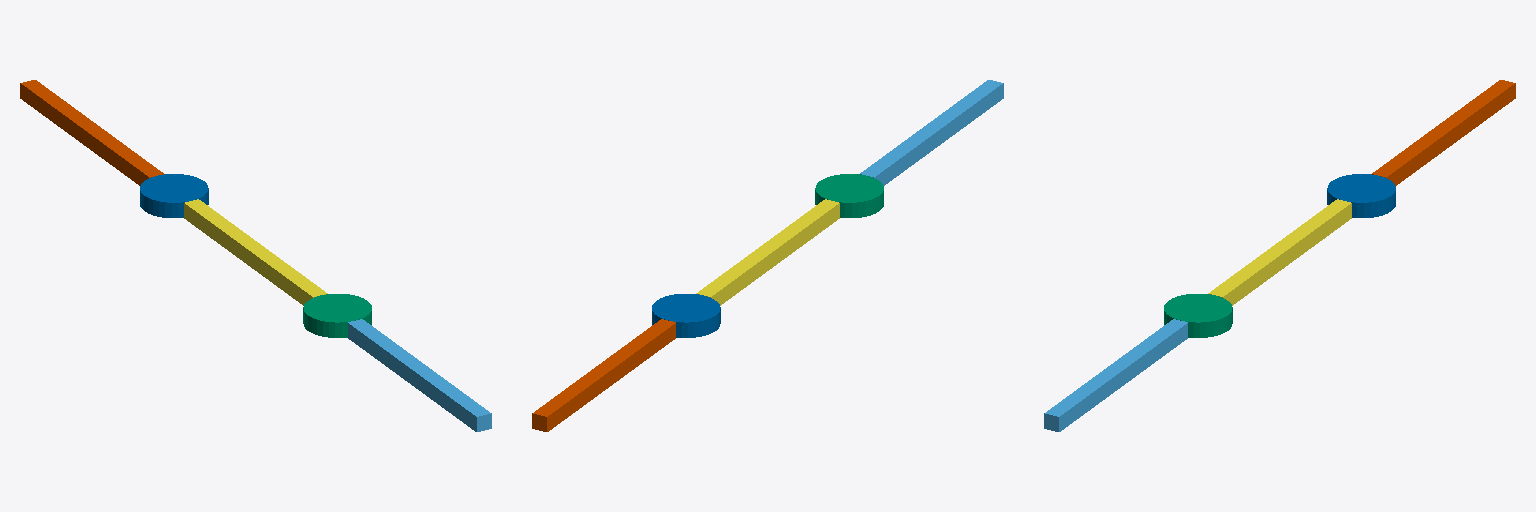
The robot description file, URDF, robot "planar_manipulator/3dof_manip_no_endeffector":
<?xml version="1.0"?>
<robot name="planar_manipulator/3dof_manip_no_endeffector">
 <link name="jlink0">
  <inertial>
    <mass value="1"/>
    <inertia ixx="0.0108333333333" ixy="0" ixz="0" iyy="0.0108333333333" iyz="0" izz="0.01"/>
  </inertial>
 </link>

 <link name="link0">
  <inertial>
    <mass value="1"/>
    <inertia ixx="0.0141666666667" ixy="0" ixz="0" iyy="0.200833333333" iyz="0" izz="0.188333333333"/>
  </inertial>
  <visual>
    <origin rpy="0 0 0" xyz="0 0.95 0"/>
    <geometry>
      <box size="0.1 1.5 0.1"/>
    </geometry>
  </visual>
  <collision>
    <origin rpy="0 0 0" xyz="0 0.95 0"/>
    <geometry>
      <box size="0.1 1.5 0.1"/>
    </geometry>
  </collision>
 </link>

<joint name="joint_revolute_jlink0_link0_Z" type="revolute">
  <origin rpy="0 0 0" xyz="0 0 0"/>
  <parent link="jlink0"/>
  <child link="link0"/>
  <axis xyz="0 0 1"/>
  <dynamics damping="0.01" friction="0.5"/>
  <limit lower="-3.14" upper="3.14" effort="0.01" velocity="100"/>
</joint>

 <link name="jlink1">
  <inertial>
    <mass value="1"/>
    <inertia ixx="0.0108333333333" ixy="0" ixz="0" iyy="0.0108333333333" iyz="0" izz="0.01"/>
  </inertial>
  <visual>
    <origin rpy="0 0 1.57" xyz="0 0 0"/>
    <geometry>
      <cylinder length="0.1" radius="0.2"/>
    </geometry>
  </visual>
  <collision>
    <origin rpy="0 0 1.57" xyz="0 0 0"/>
    <geometry>
      <cylinder length="0.1" radius="0.2"/>
    </geometry>
  </collision>
 </link>

<joint name="joint_fixed_link0_jlink1" type="fixed">
  <origin rpy="0 0 0" xyz="0 1.9 0"/>
  <parent link="link0"/>
  <child link="jlink1"/>
</joint>

 <link name="link1">
  <inertial>
    <mass value="1"/>
    <inertia ixx="0.0141666666667" ixy="0" ixz="0" iyy="0.200833333333" iyz="0" izz="0.188333333333"/>
  </inertial>
  <visual>
    <origin rpy="0 0 0" xyz="0 0.95 0"/>
    <geometry>
      <box size="0.1 1.5 0.1"/>
    </geometry>
  </visual>
  <collision>
    <origin rpy="0 0 0" xyz="0 0.95 0"/>
    <geometry>
      <box size="0.1 1.5 0.1"/>
    </geometry>
  </collision>
 </link>

<joint name="joint_revolute_jlink1_link1_Z" type="revolute">
  <origin rpy="0 0 0" xyz="0 0 0"/>
  <parent link="jlink1"/>
  <child link="link1"/>
  <axis xyz="0 0 1"/>
  <dynamics damping="0.01" friction="0.5"/>
  <limit lower="-3.14" upper="3.14" effort="0.01" velocity="100"/>
</joint>

 <link name="jlink2">
  <inertial>
    <mass value="1"/>
    <inertia ixx="0.0108333333333" ixy="0" ixz="0" iyy="0.0108333333333" iyz="0" izz="0.01"/>
  </inertial>
  <visual>
    <origin rpy="0 0 1.57" xyz="0 0 0"/>
    <geometry>
      <cylinder length="0.1" radius="0.2"/>
    </geometry>
  </visual>
  <collision>
    <origin rpy="0 0 1.57" xyz="0 0 0"/>
    <geometry>
      <cylinder length="0.1" radius="0.2"/>
    </geometry>
  </collision>
 </link>

<joint name="joint_fixed_link1_jlink2" type="fixed">
  <origin rpy="0 0 0" xyz="0 1.9 0"/>
  <parent link="link1"/>
  <child link="jlink2"/>
</joint>

 <link name="link2">
  <inertial>
    <mass value="1"/>
    <inertia ixx="0.0141666666667" ixy="0" ixz="0" iyy="0.200833333333" iyz="0" izz="0.188333333333"/>
  </inertial>
  <visual>
    <origin rpy="0 0 0" xyz="0 0.95 0"/>
    <geometry>
      <box size="0.1 1.5 0.1"/>
    </geometry>
  </visual>
  <collision>
    <origin rpy="0 0 0" xyz="0 0.95 0"/>
    <geometry>
      <box size="0.1 1.5 0.1"/>
    </geometry>
  </collision>
 </link>

<joint name="joint_revolute_jlink2_link2_Z" type="revolute">
  <origin rpy="0 0 0" xyz="0 0 0"/>
  <parent link="jlink2"/>
  <child link="link2"/>
  <axis xyz="0 0 1"/>
  <dynamics damping="0.01" friction="0.5"/>
  <limit lower="-3.14" upper="3.14" effort="0.01" velocity="100"/>
</joint>

 <link name="jlink3">
  <inertial>
    <mass value="1"/>
    <inertia ixx="0.0108333333333" ixy="0" ixz="0" iyy="0.0108333333333" iyz="0" izz="0.01"/>
  </inertial>
 </link>

<joint name="joint_fixed_link2_jlink3" type="fixed">
  <origin rpy="0 0 0" xyz="0 1.9 0"/>
  <parent link="link2"/>
  <child link="jlink3"/>
</joint>

  <klampt package_root="../../.." default_acc_max="4" >
  </klampt>
</robot>

--- What the picture shows (computed from the rendered views, not written in the file) ---
3 views of the same robot in one strip: view 1: azimuth 30°, elevation 25°; view 2: azimuth 150°, elevation 25°; view 3: azimuth 330°, elevation 25° (orthographic).
Model planar_manipulator/3dof_manip_no_endeffector with 7 links and 6 joints (3 revolute, 3 fixed), rooted at jlink0, posed all joints at 0.
Links seen in each view (by area): view 1: link0, link2, link1, jlink1, jlink2; view 2: link2, link0, link1, jlink2, jlink1; view 3: link0, link2, link1, jlink1, jlink2.
Boxes of the visible links, box(x1,y1,x2,y2) form: link0: box(348, 319, 491, 431); link2: box(20, 80, 163, 185); link1: box(184, 199, 327, 305); jlink1: box(303, 294, 371, 337); jlink2: box(140, 174, 208, 217); link2: box(532, 319, 675, 431); link0: box(860, 80, 1003, 185); link1: box(696, 199, 839, 305); jlink2: box(652, 294, 720, 337); jlink1: box(815, 174, 883, 217); link0: box(1044, 319, 1187, 431); link2: box(1372, 80, 1515, 185); link1: box(1208, 199, 1351, 305); jlink1: box(1164, 294, 1232, 337); jlink2: box(1327, 174, 1395, 217).
Size in the robot's own frame: 0.4 by 5.3 by 0.1 metres.
Geometry: primitives only (box / cylinder / sphere), no mesh files.